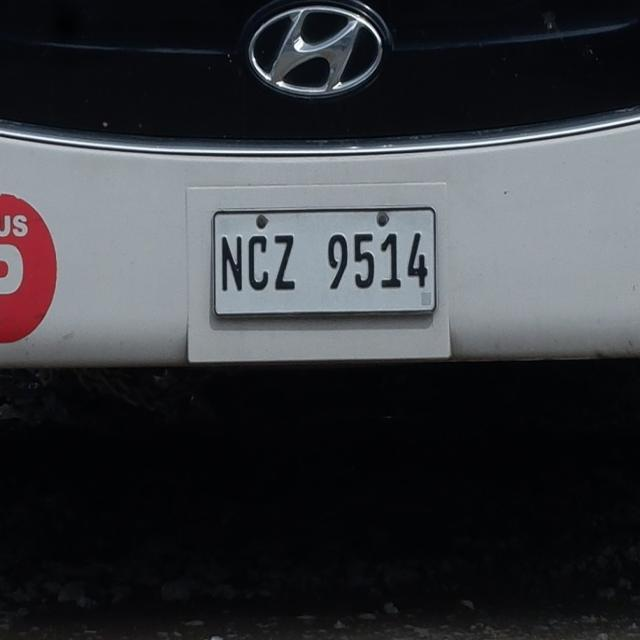LicensePlate: (186, 198, 456, 347)
